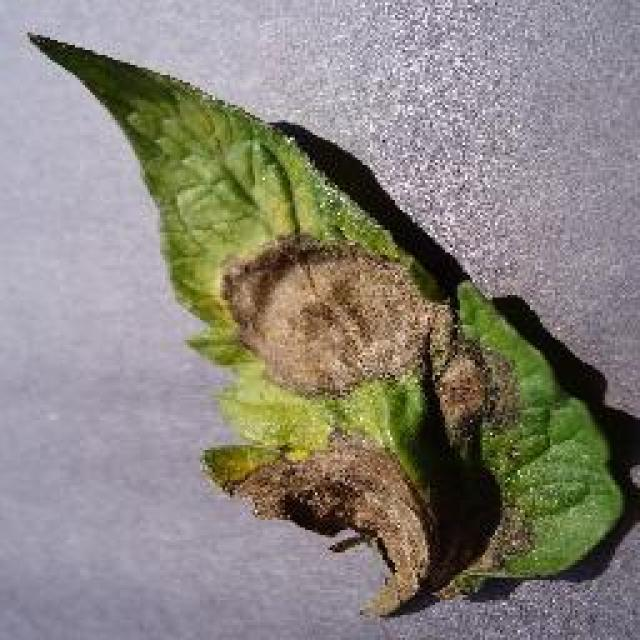Tomato late blight leaf: (28, 35, 620, 607)
